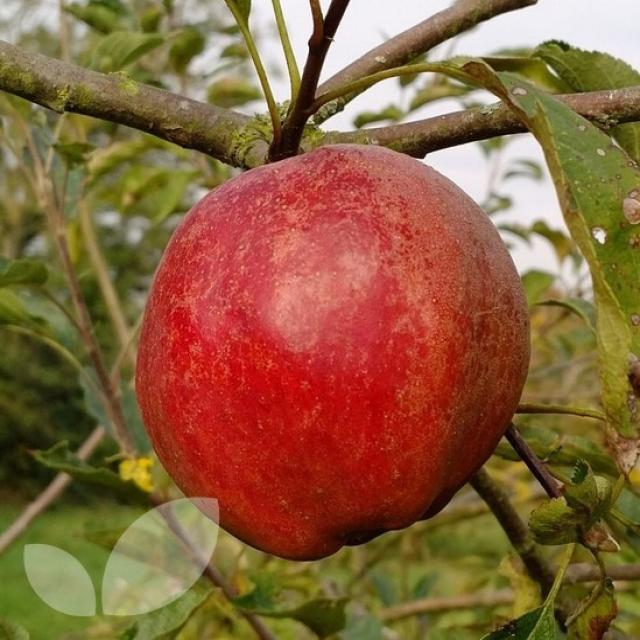Apple: (124, 141, 530, 564)
